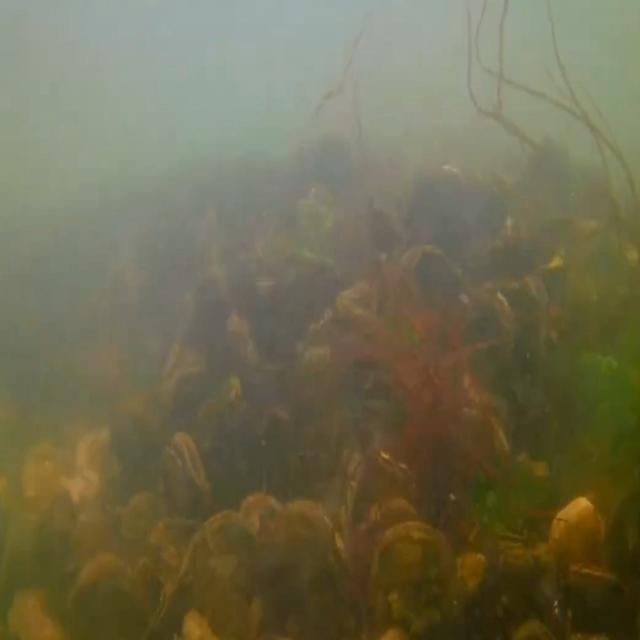Oyster-Closed: (548, 497, 608, 640)
Oyster-Indeterminate: (238, 490, 368, 640), (153, 508, 274, 640), (371, 520, 464, 640), (118, 489, 182, 622), (64, 550, 146, 640), (396, 244, 470, 314), (477, 276, 550, 342), (452, 288, 517, 357), (322, 279, 381, 326)
Oyster-Open: (156, 432, 211, 548), (336, 444, 365, 552), (366, 434, 421, 482)
